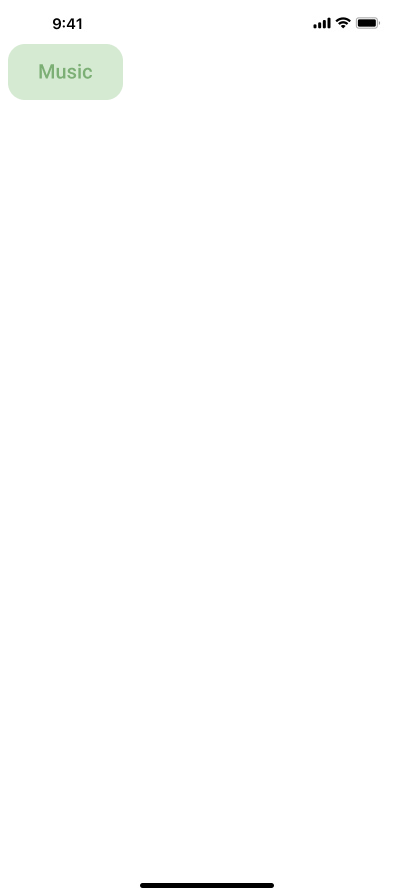Buttons: (8, 44, 131, 100)
Home Indicator: (0, 862, 414, 896)
Status Bar: (0, 0, 414, 44)
